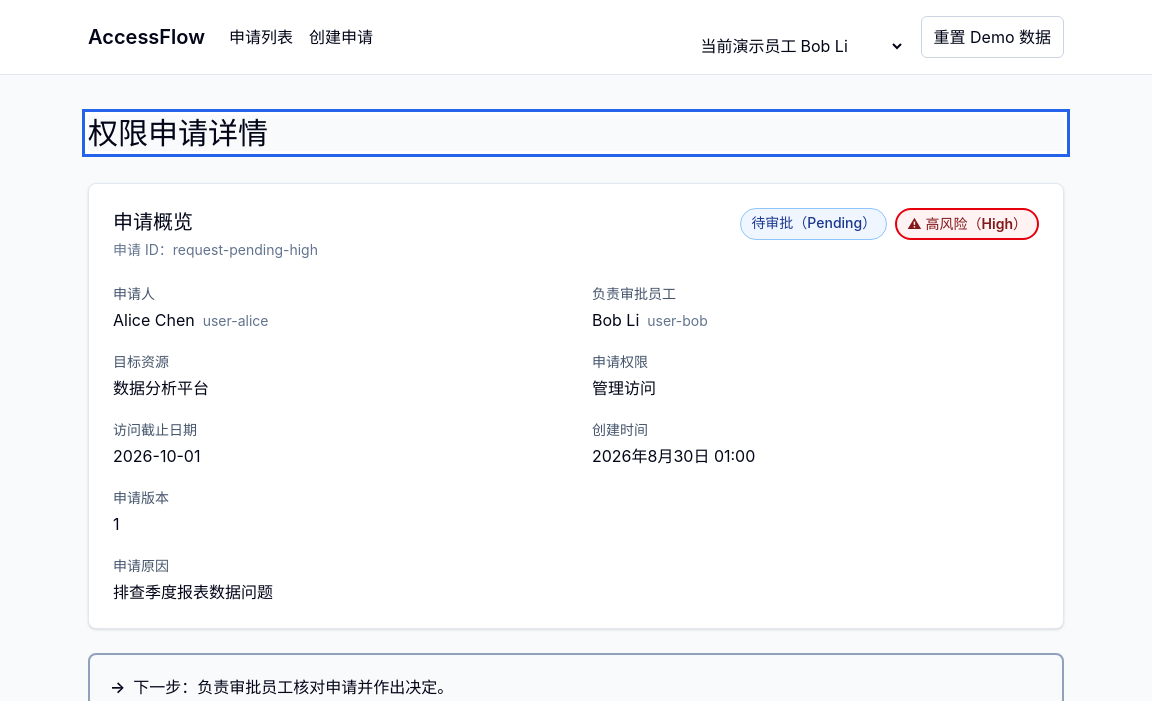
Test case: AppShell Demo 数据重置 › 失败时保留身份、页面和缓存，并允许原地重试
Expected: the heading "权限申请详情" is shown, [88,115,1064,151]
Click the button "重置 Demo 数据" at (992, 37), box [920,16,1064,58]
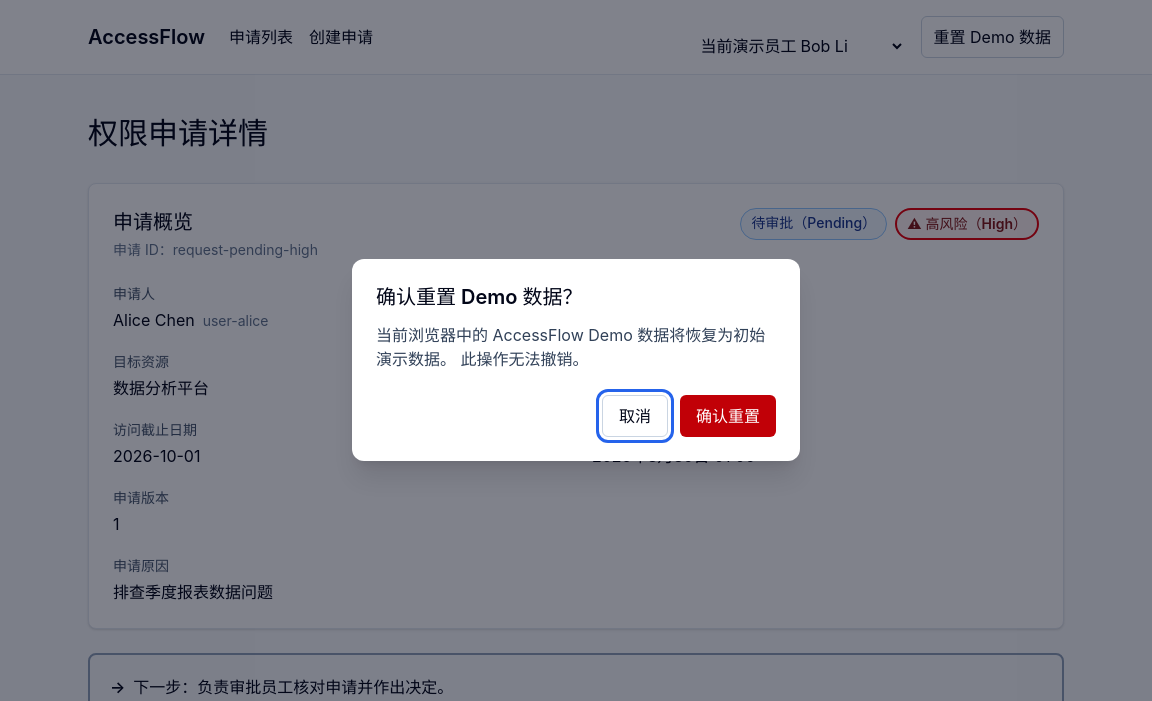
Click the button "确认重置" at (728, 416), box [680,395,776,437]
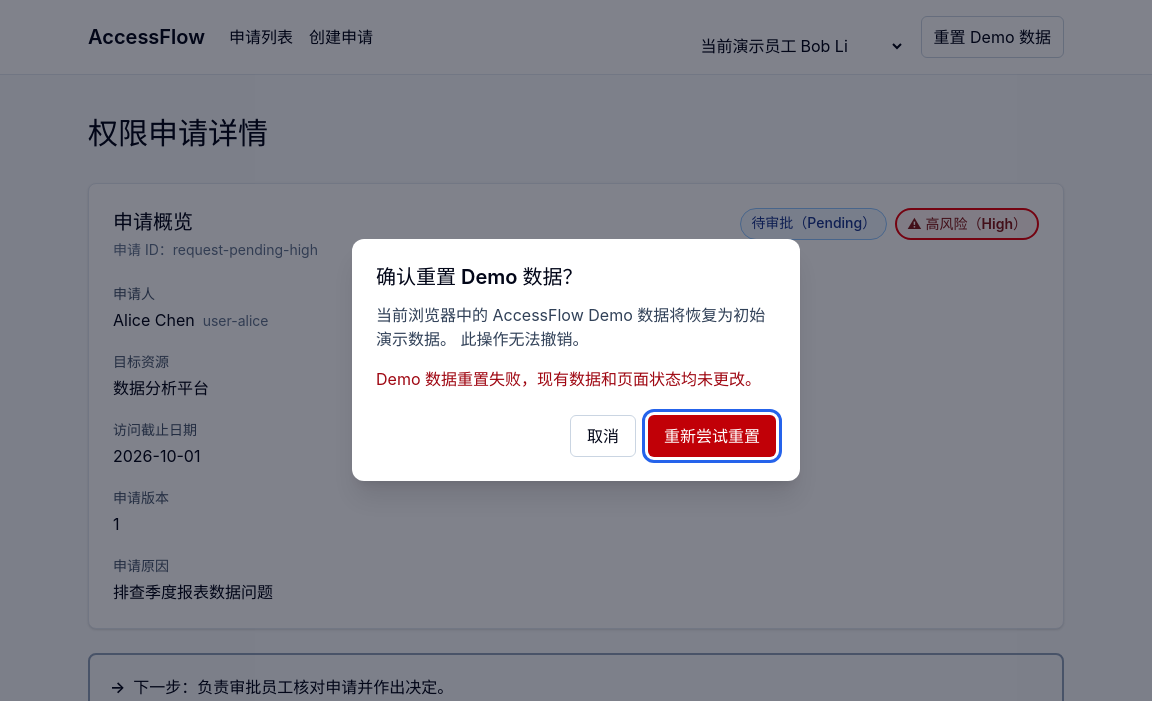
Expected: the heading "权限申请详情" is shown, [88,115,268,151]
Expected: the message reads "Demo 数据重置失败，现有数据和页面状态均未更改。", [376,369,761,389]
Click the button "重新尝试重置" at (712, 436), box [648,415,776,457]
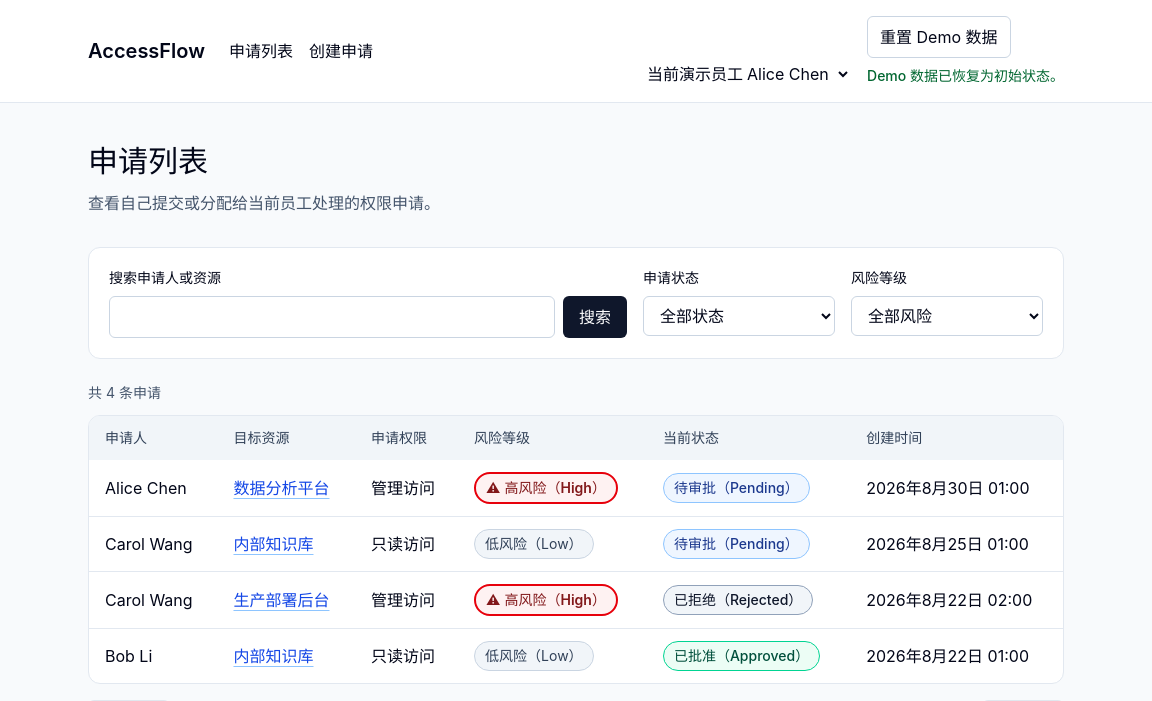
Expected: the heading "申请列表" is shown, [88,143,208,179]
Expected: the dropdown labelled "当前演示员工" shows "Alice Chen", [743,63,851,85]
